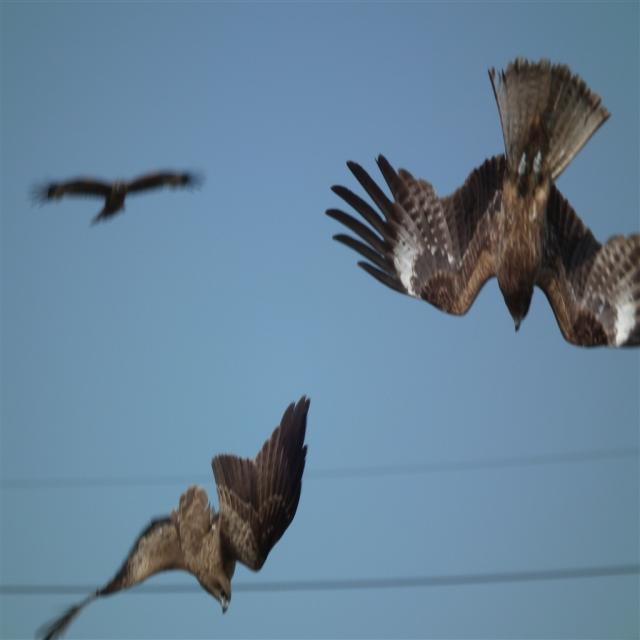bird: (311, 50, 640, 366), (17, 389, 314, 640), (32, 167, 205, 236)
